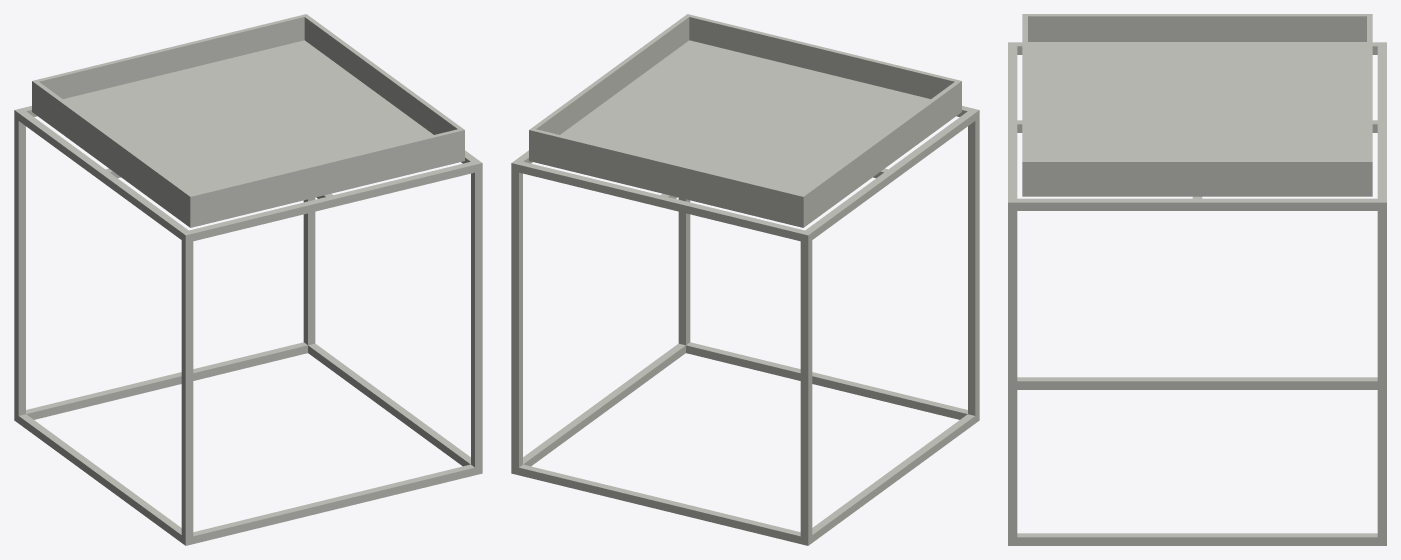
The model's file is haytraytable.gltf.
3 renders of one model, left to right at view 1: azimuth 30°, elevation 25°; view 2: azimuth 150°, elevation 25°; view 3: azimuth 270°, elevation 25°, orthographic. The views are drawn at different scales.
Visible parts, largest first — view 1: Mesh; view 2: Mesh; view 3: Mesh.
Part boxes in pixels (x1=…): Mesh: x1=14, y1=14, x2=482, y2=545; Mesh: x1=511, y1=14, x2=979, y2=545; Mesh: x1=1008, y1=14, x2=1386, y2=545.
Bounding box in the file's own units: 0.4 × 0.44 × 0.4.
1 material, 1 textured.
